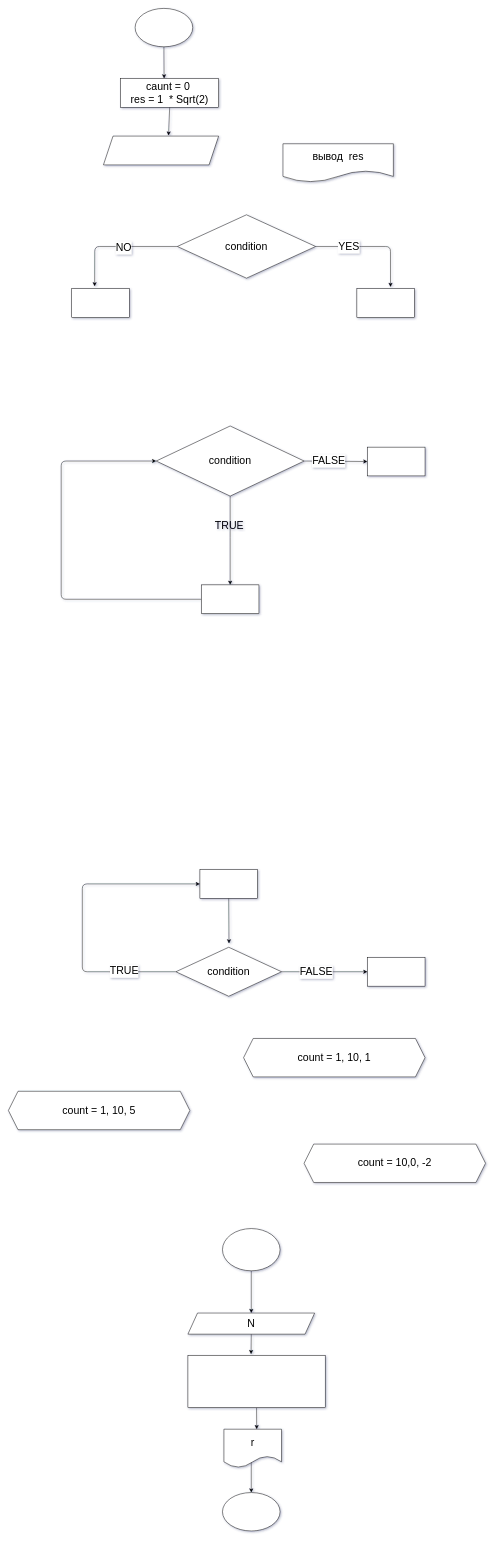
The diagram is 497 pixels wide and 1542 high, and some of its shapes have lost their labels. The shapes that lost their labels are listed below. From the top down, each one's centre as x and y in pixels, then its label:
At [164,27]: "start end".
At [161,150]: "ввод res".
At [251,1249]: "start".
At [256,1381]: "r r = (случ)random(1,N)".
At [251,1511]: "END".
